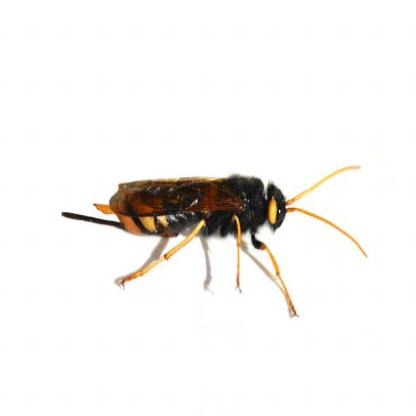sawfly: (62, 159, 371, 326)
